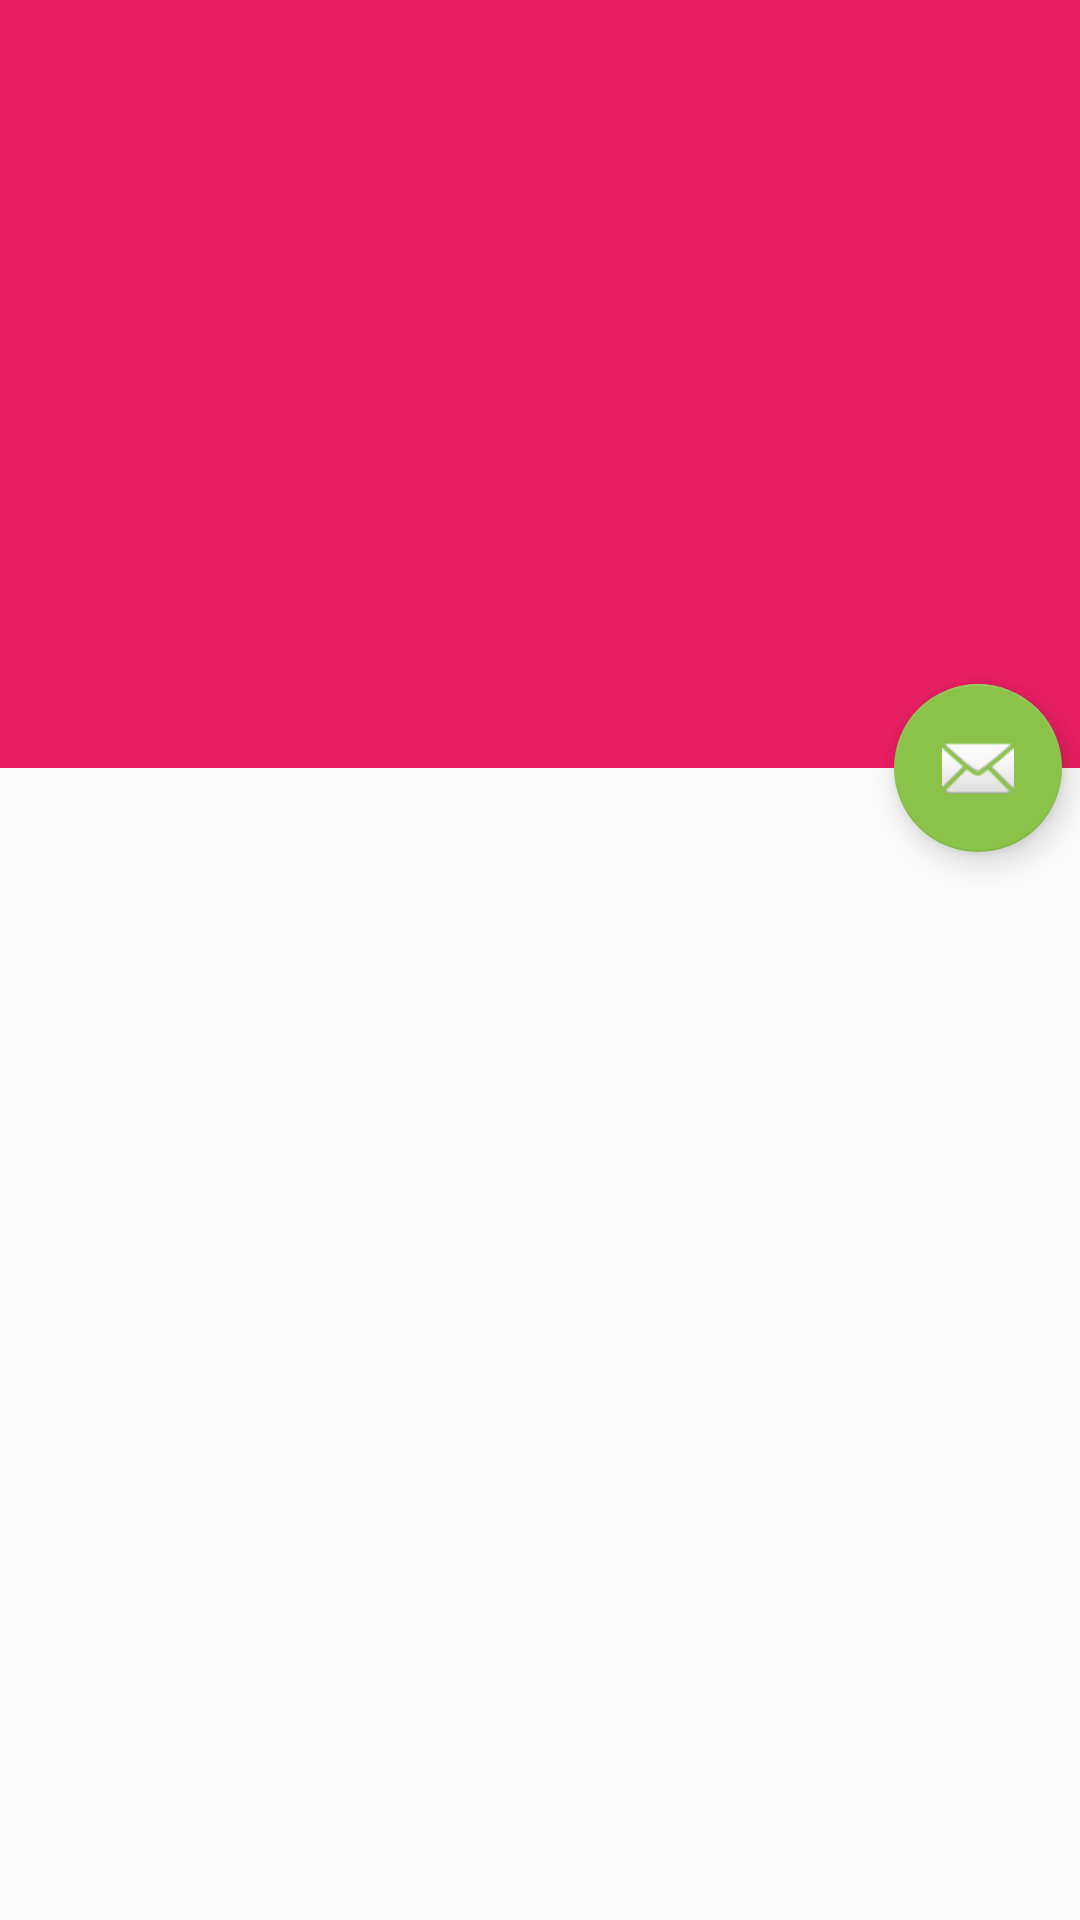

Point at icon controls on the screen. Image size 1080w x 1920h, points as (x=x, y=y).
email: (x=978, y=768)
